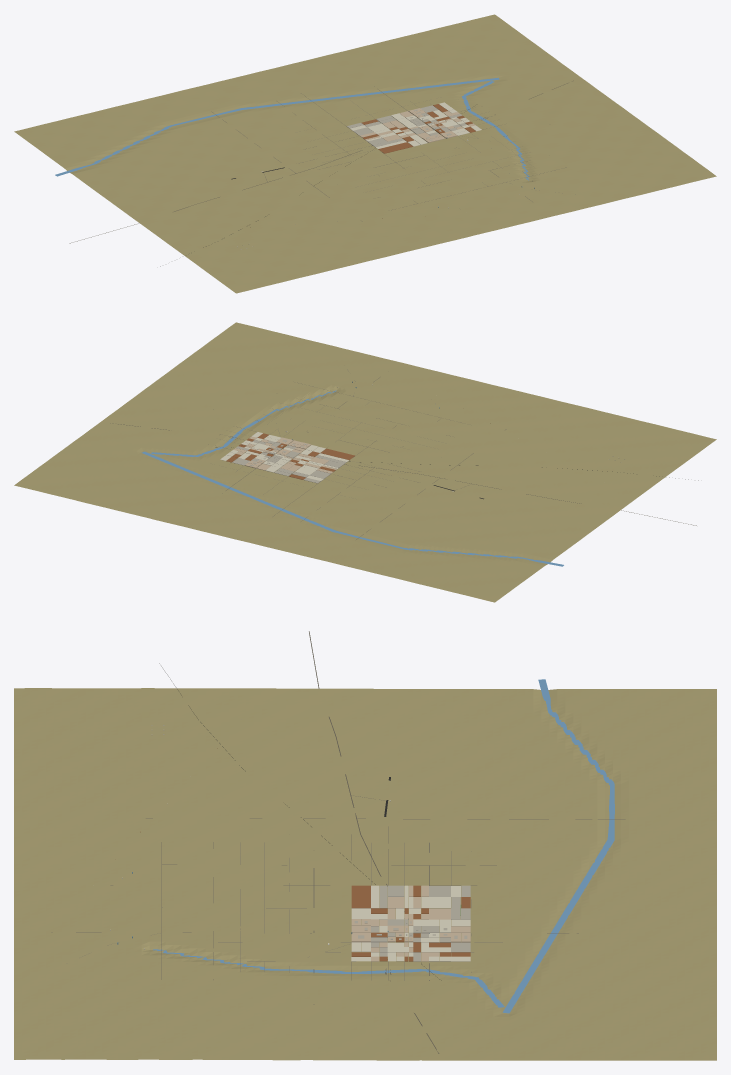
Rendered from NeuquenCapital.obj.
3 views of the same model, one above another, from view 1: azimuth 30°, elevation 25°; view 2: azimuth 150°, elevation 25°; view 3: azimuth 270°, elevation 25° (orthographic). The views are drawn at different scales.
Parts seen in each view (by area): view 1: Terrain, Water, Light, Plaster, Concrete, Brick; view 2: Terrain, Water, Light, Plaster, Concrete, Brick; view 3: Terrain, Water, Light, Plaster, Concrete, Brick, Asphalt.
Part boxes in pixels (<box>): Terrain: <box>14,14,716,293</box>; Water: <box>55,77,529,180</box>; Light: <box>261,102,532,221</box>; Plaster: <box>360,108,475,142</box>; Concrete: <box>237,105,466,249</box>; Brick: <box>250,104,475,227</box>; Terrain: <box>14,322,716,602</box>; Water: <box>141,390,563,566</box>; Light: <box>220,384,453,491</box>; Plaster: <box>233,436,336,473</box>; Concrete: <box>232,440,624,483</box>; Brick: <box>226,423,490,479</box>; Terrain: <box>14,688,716,1060</box>; Water: <box>153,679,614,1013</box>; Light: <box>93,800,470,961</box>; Plaster: <box>351,885,470,961</box>; Concrete: <box>151,719,470,961</box>; Brick: <box>140,748,470,961</box>; Asphalt: <box>51,795,625,1004</box>.
Size of the model in its own units: 22864 by 82.57 by 15840.
